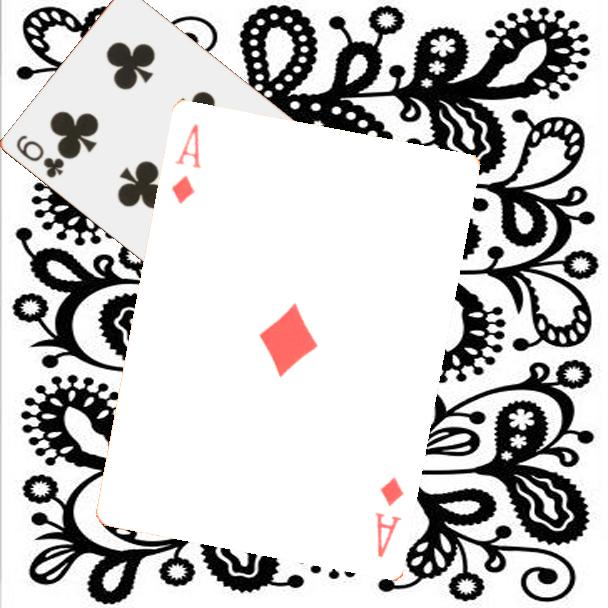c06: (13, 131, 68, 181)
d01: (371, 473, 407, 561), (168, 120, 204, 208)
